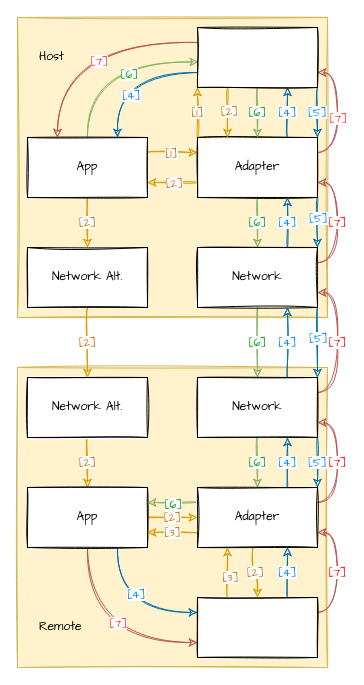
Image size: 364x685. Some labels were removed from this diagram. The centre of each missing label's shape, as x and y in pixels:
"Input Layer" goes at (x=257, y=627).
"Output Layer" goes at (x=257, y=57).
